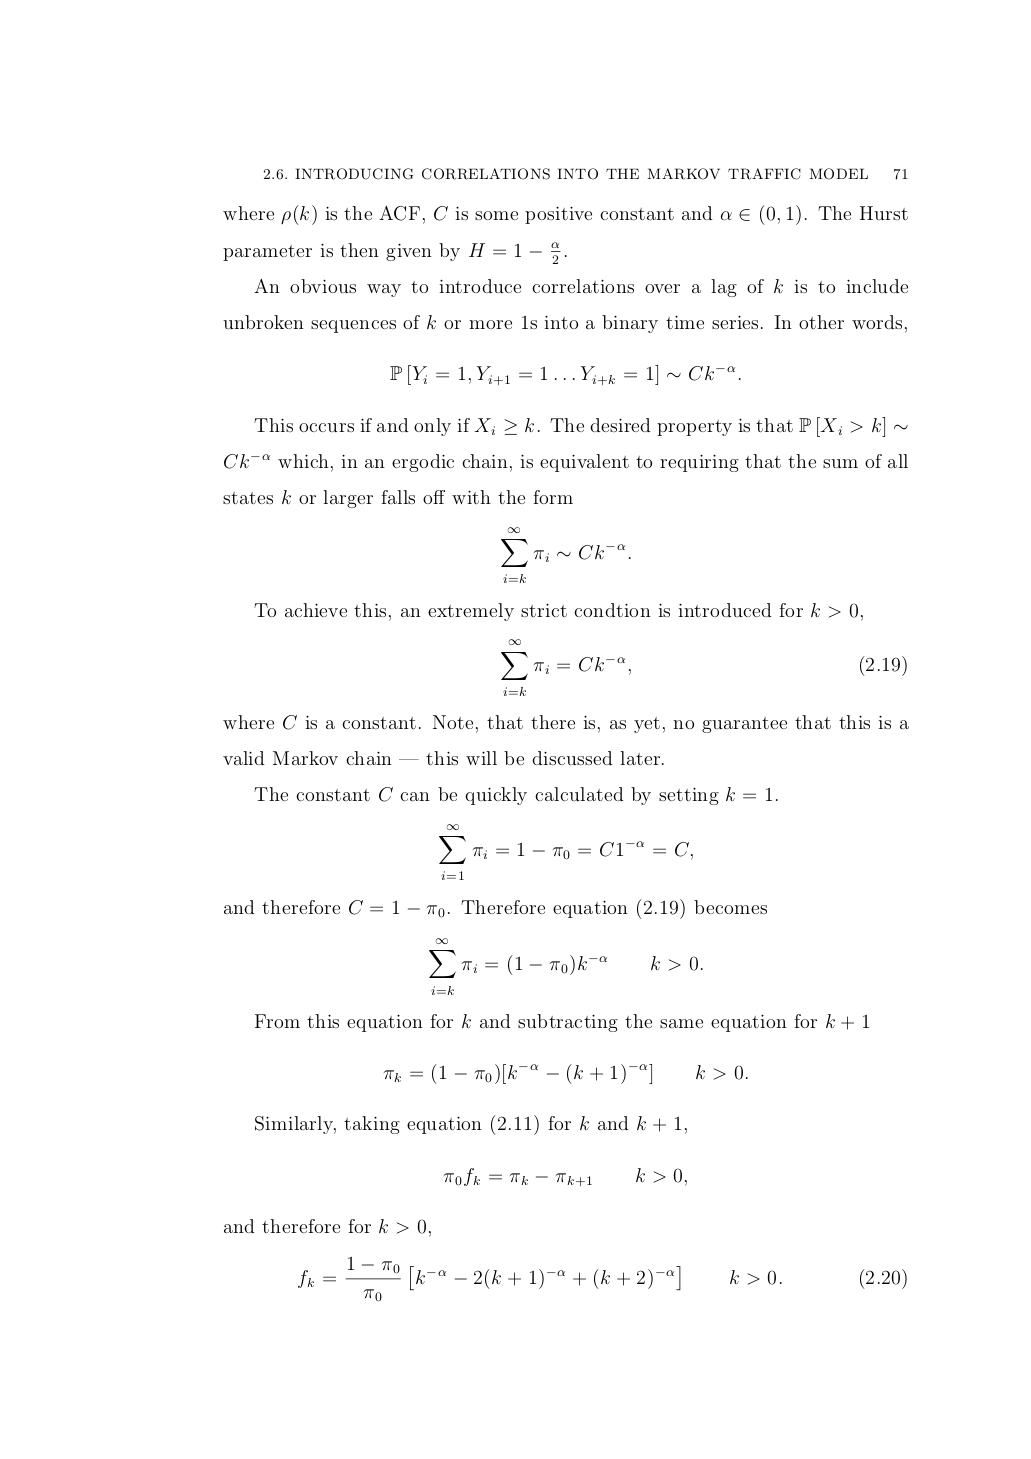formula: (298, 1255, 906, 1302), (501, 639, 906, 695), (428, 938, 702, 994), (439, 824, 692, 879), (383, 1062, 746, 1084), (391, 364, 740, 386), (501, 526, 630, 582), (443, 1167, 686, 1187)
